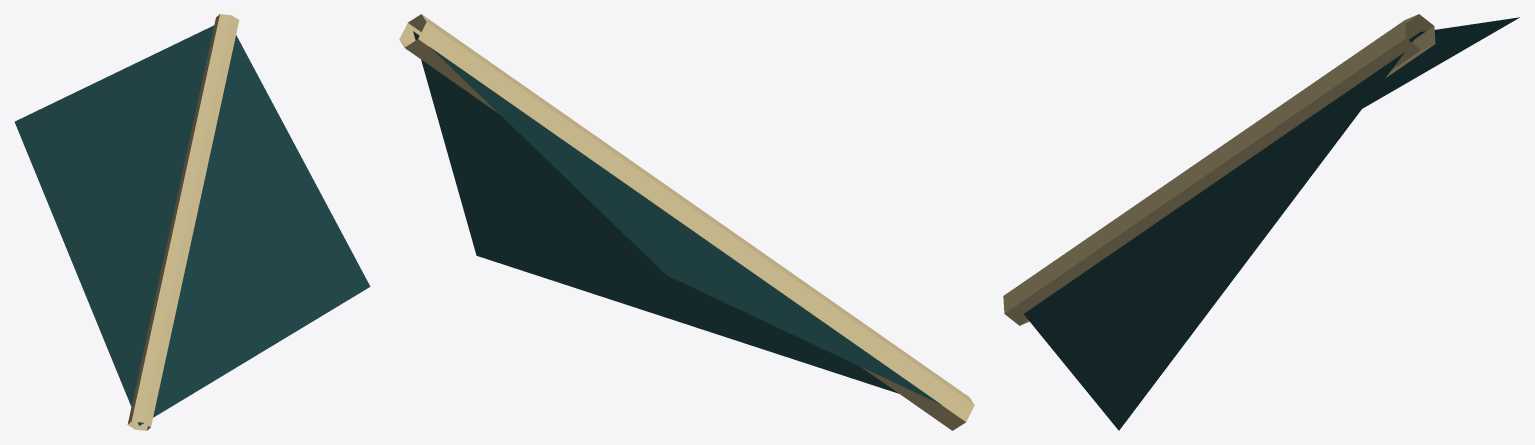
File: panel_fragment_glass.fbx
The picture shows the model from 3 angles, left to right: view 1: azimuth 30°, elevation 25°; view 2: azimuth 150°, elevation 25°; view 3: azimuth 270°, elevation 25°; orthographic projection. The views are drawn at different scales.
Parts seen in each view (by area): view 1: Part_0; view 2: Part_0; view 3: Part_0.
Boxes of the visible parts, box(x1,y1,x2,y2) form: Part_0: box(14, 14, 370, 430); Part_0: box(399, 14, 974, 430); Part_0: box(1003, 14, 1519, 430).
Bounding box in the file's own units: 1 × 1 × 1.
